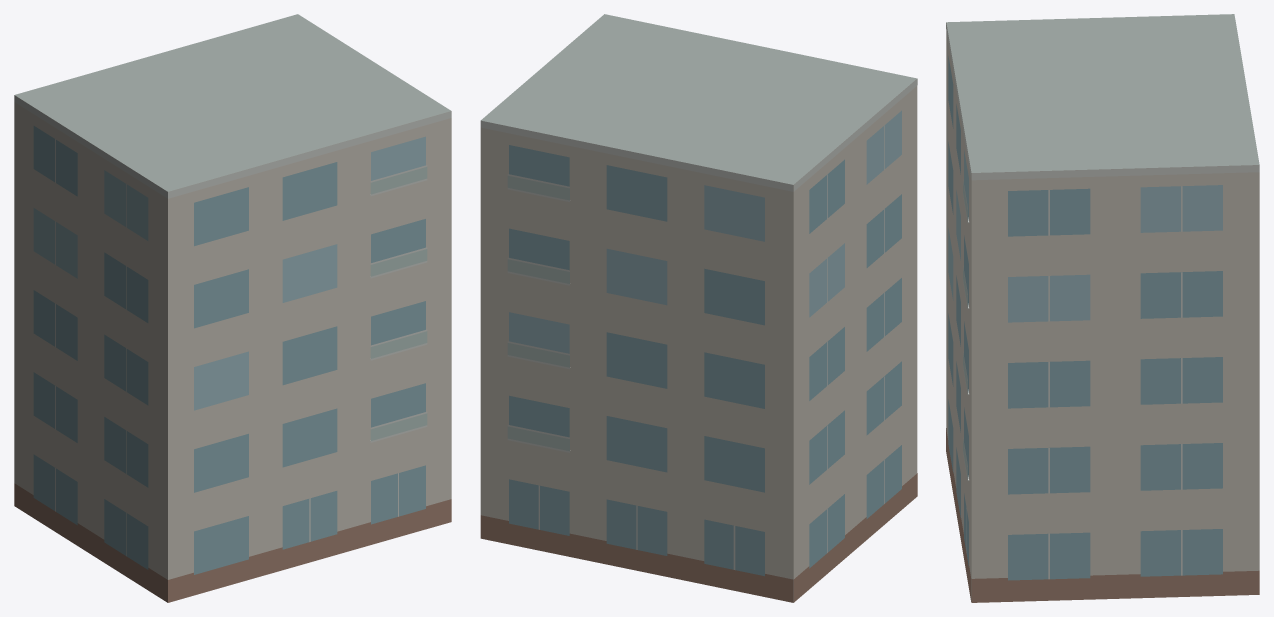
File: survey-upis-32526634.glb
3 views of the same model, side by side, from view 1: azimuth 30°, elevation 25°; view 2: azimuth 150°, elevation 25°; view 3: azimuth 270°, elevation 25° (orthographic). The views are drawn at different scales.
Parts seen in each view (by area): view 1: survey-upis-32526634.tmp; view 2: survey-upis-32526634.tmp; view 3: survey-upis-32526634.tmp.
Boxes of the visible parts, <box> form: survey-upis-32526634.tmp: <box>14,14,451,602</box>; survey-upis-32526634.tmp: <box>480,14,917,602</box>; survey-upis-32526634.tmp: <box>946,14,1259,602</box>.
Size of the model in its own units: 11.52 by 14.5 by 9.59.
